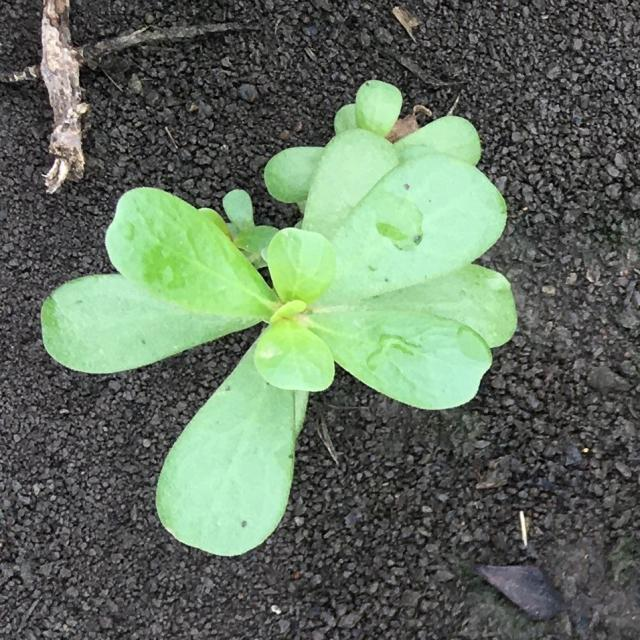Purslane: (40, 79, 518, 557)
